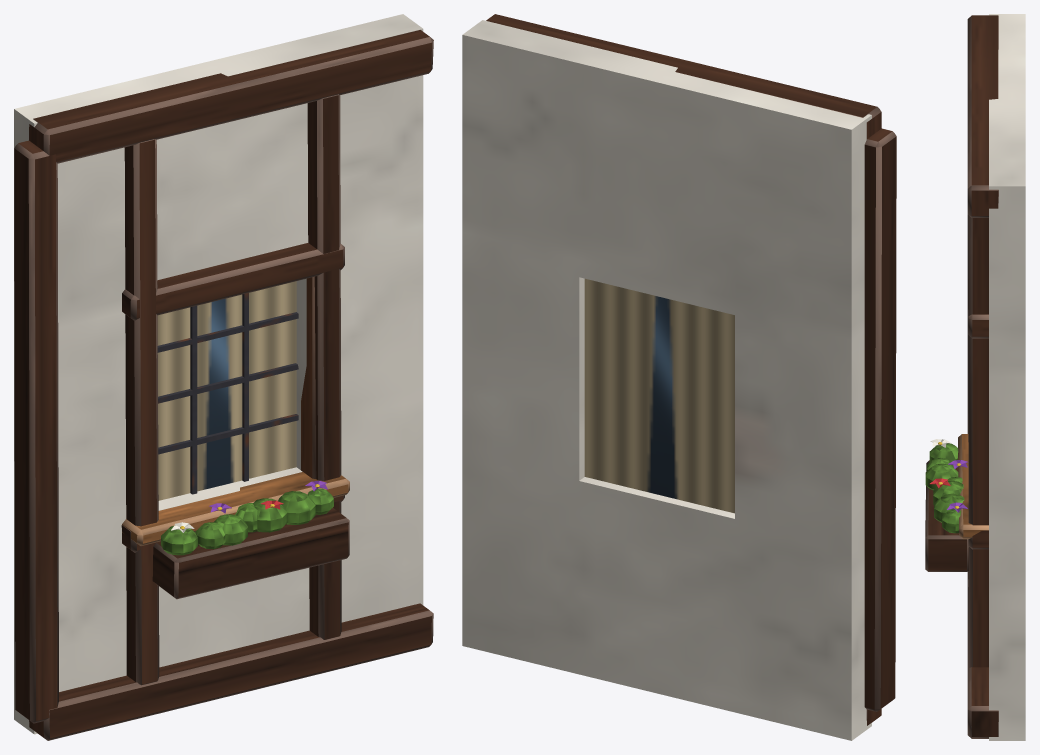
The model's file is SM_Mod_Wall_Timber_Window.obj.
3 renders of one model, left to right at view 1: azimuth 30°, elevation 25°; view 2: azimuth 150°, elevation 25°; view 3: azimuth 270°, elevation 25°, orthographic. The views are drawn at different scales.
Visible parts, largest first — view 1: SM_Mod_Wall_Timber_Window; view 2: SM_Mod_Wall_Timber_Window; view 3: SM_Mod_Wall_Timber_Window.
Part boxes in pixels (left/top/right/bottom): SM_Mod_Wall_Timber_Window: left=14, top=14, right=433, bottom=740; SM_Mod_Wall_Timber_Window: left=462, top=14, right=896, bottom=740; SM_Mod_Wall_Timber_Window: left=925, top=14, right=1025, bottom=740.
Bounding box in the file's own units: 2.08 × 3 × 0.4931.
Materials: 1 (1 with a texture image).
